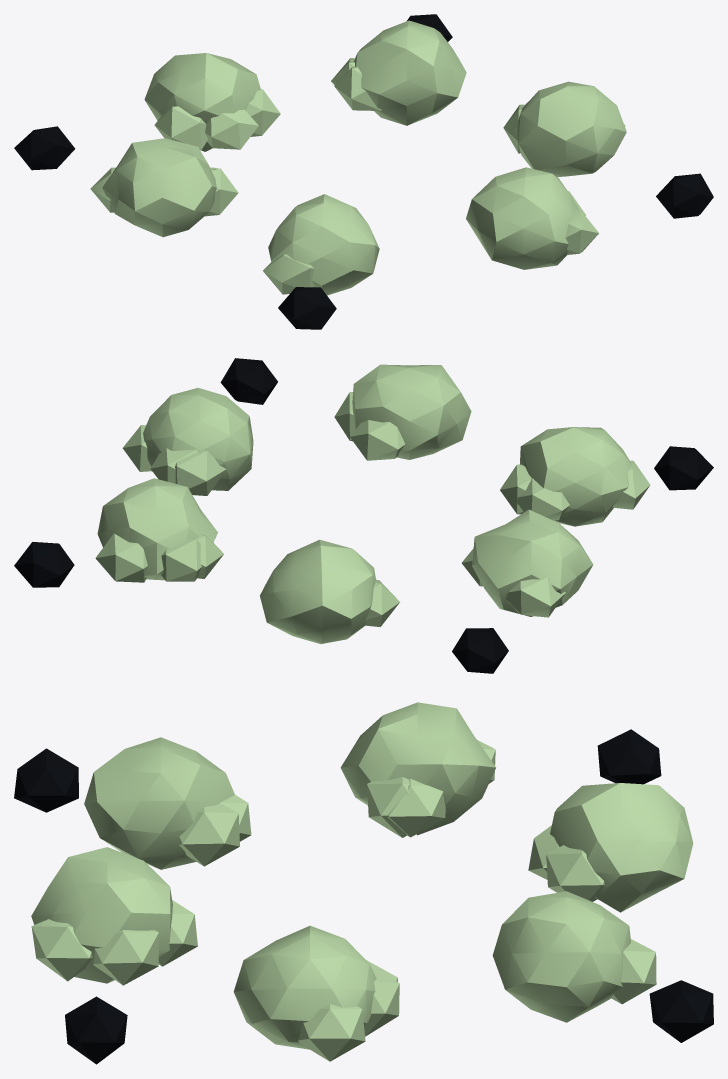
The model's file is tt_arc_col_moss.glb.
The picture shows the model from 3 angles, top to bottom: view 1: azimuth 30°, elevation 25°; view 2: azimuth 150°, elevation 25°; view 3: azimuth 270°, elevation 25°; orthographic projection. The views are drawn at different scales.
Parts seen in each view (by area): view 1: Col_Moss, Col_Stones; view 2: Col_Moss, Col_Stones; view 3: Col_Moss, Col_Stones.
Part boxes in pixels (x1,y1,x2,y2): Col_Moss: (90,20,626,295); Col_Stones: (14,14,713,329); Col_Moss: (95,364,650,644); Col_Stones: (14,358,713,673); Col_Moss: (31,702,693,1061); Col_Stones: (14,729,713,1064).
Size of the model in its own units: 1.94 by 0.3695 by 1.94.
2 materials, 1 textured.
